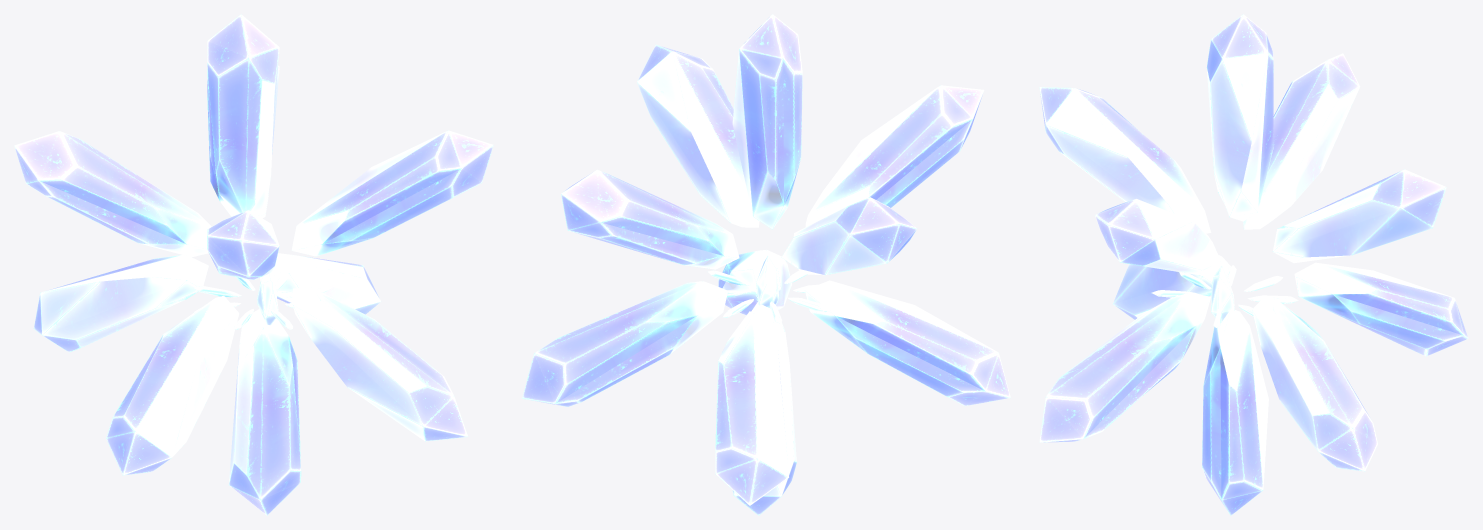
File: LightIDLE.fbx
3 renders of one model, left to right at view 1: azimuth 30°, elevation 25°; view 2: azimuth 150°, elevation 25°; view 3: azimuth 270°, elevation 25°, orthographic. The views are drawn at different scales.
Parts seen in each view (by area): view 1: Cube.051, Cube.072, Cube.039; view 2: Cube.072, Cube.051, Cube.039; view 3: Cube.072, Cube.051, Cube.039.
Part boxes in pixels (left/top/right/bottom): Cube.051: left=33, top=253, right=468, bottom=515; Cube.072: left=14, top=14, right=493, bottom=279; Cube.039: left=193, top=272, right=332, bottom=329; Cube.072: left=561, top=14, right=984, bottom=275; Cube.051: left=522, top=249, right=1010, bottom=515; Cube.039: left=707, top=256, right=830, bottom=323; Cube.072: left=1039, top=14, right=1446, bottom=274; Cube.051: left=1039, top=255, right=1468, bottom=515; Cube.039: left=1151, top=265, right=1298, bottom=327.
Size of the model in its own units: 537 by 716 by 566.
